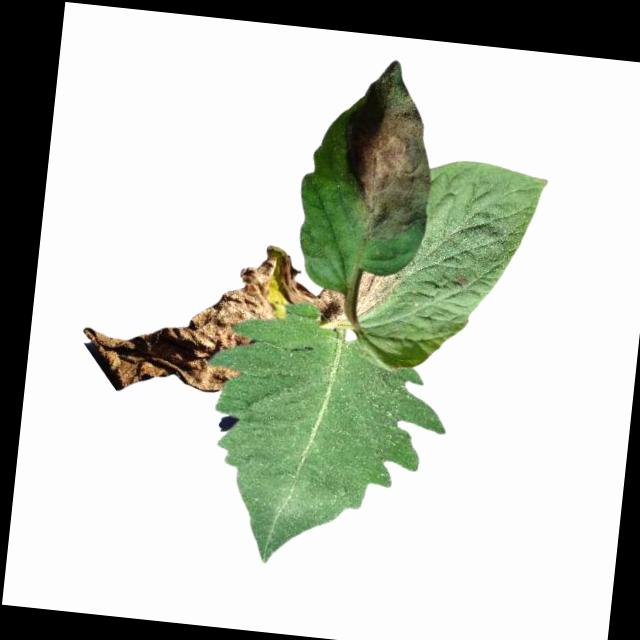Late_blight: (77, 224, 318, 408), (330, 53, 446, 249), (353, 269, 404, 322), (312, 288, 349, 326), (453, 270, 471, 289)
healthy: (186, 297, 458, 583)
